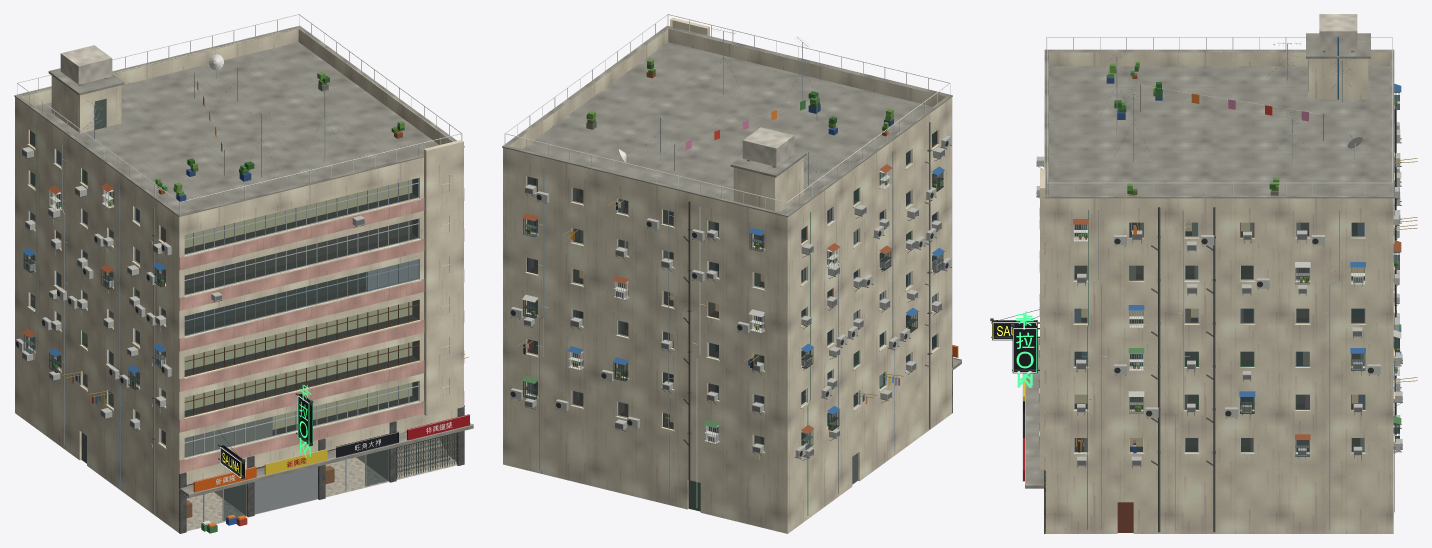
File: hk-striped-walkup.glb
The picture shows the model from 3 angles, left to right: view 1: azimuth 30°, elevation 25°; view 2: azimuth 150°, elevation 25°; view 3: azimuth 270°, elevation 25°; orthographic projection. The views are drawn at different scales.
Visible parts, largest first — view 1: Building_wall, Building_slab, Building_glass, Building_pink, Building_room, Building_frame, Building_lit_warm, Building_metal, Building_vc, Building_board, Building_ac, Building_floor_tile (+4 smaller); view 2: Building_wall, Building_slab, Building_metal, Building_vc, Building_ac, Building_glass, Building_room, Building_tank, Building_frame; view 3: Building_wall, Building_slab, Building_vc, Building_metal, Building_glass, Building_ac, Building_room, Building_frame, Building_board, Building_tank, Building_neon_green, Building_lit_warm.
Boxes of the visible parts, x1,y1,x2,y2 form: Building_wall: (15,28,463,532); Building_slab: (14,25,473,497); Building_glass: (30,131,449,520); Building_pink: (179,188,464,473); Building_room: (31,131,456,515); Building_frame: (30,130,449,521); Building_lit_warm: (185,180,411,429); Building_metal: (15,14,473,495); Building_vc: (22,54,417,533); Building_board: (193,394,469,492); Building_ac: (16,147,364,428); Building_floor_tile: (186,455,457,531); Building_wall: (503,17,952,533); Building_slab: (502,25,961,370); Building_metal: (504,14,961,511); Building_vc: (522,59,944,515); Building_ac: (510,135,951,458); Building_glass: (527,131,936,449); Building_room: (528,132,935,444); Building_tank: (742,127,794,166); Building_frame: (527,131,937,451); Building_wall: (1040,51,1394,533); Building_slab: (1025,33,1394,488); Building_vc: (1073,36,1401,532); Building_metal: (990,37,1402,532); Building_glass: (1039,208,1364,451); Building_ac: (1036,122,1402,466); Building_room: (1075,223,1364,451); Building_frame: (1039,216,1365,452); Building_board: (992,320,1037,481); Building_tank: (1319,14,1357,50); Building_neon_green: (1013,311,1036,387); Building_lit_warm: (1075,223,1364,446).
Bounding box in the file's own units: 25 × 27.16 × 26.98.
Materials: 20 (8 with a texture image).
